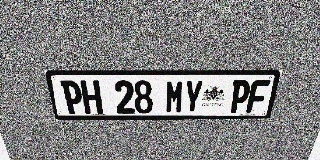2: (114, 80, 135, 114)
8: (134, 80, 153, 113)
F: (246, 80, 270, 113)
H: (80, 81, 103, 114)
M: (165, 80, 185, 113)
P: (60, 81, 85, 114), (228, 80, 252, 113)
Y: (183, 80, 204, 113)
